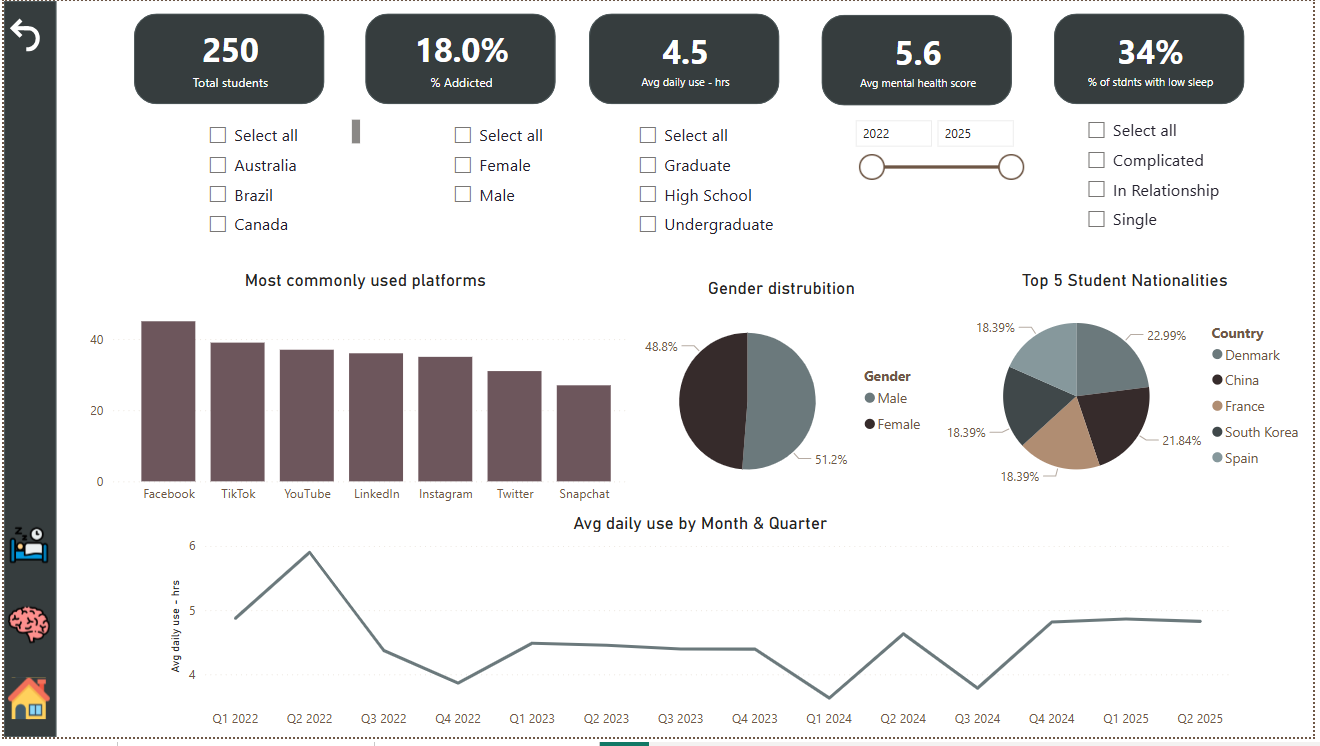

The dashboard page shown, as its layout file describes it:
{"tool":"powerbi","page":{"name":"Overview Dashboard","canvas":[1280,720],"ordinal":0},"visuals":[{"type":"shape","box":[0,0,51.4,720.2],"z":0,"group":"g1"},{"type":"clusteredColumnChart","title":"Most commonly used platforms","fields":{"Category":["Social media usage.Most_Used_Platform"],"Y":["CountNonNull(Social media usage.Usage_ID)"]},"box":[79.5,262.9,547.8,237.2],"z":0},{"type":"shape","box":[127.5,12.5,186.2,88.8],"z":1000},{"type":"actionButton","box":[0,657.9,51.4,48.9],"z":1000,"group":"g1"},{"type":"shape","box":[353.8,12.5,186.2,88.8],"z":2000},{"type":"actionButton","box":[0,585.7,51.4,48.9],"z":2000,"group":"g1"},{"type":"shape","box":[572.5,12.5,186.2,88.8],"z":3000},{"type":"shape","box":[800,13.8,186.2,88.8],"z":4000},{"type":"shape","box":[1027.5,12.5,186.2,88.8],"z":5000},{"type":"card","fields":{"Values":["Students.Total students"]},"box":[147.5,23.8,147.5,66.2],"z":6000},{"type":"card","fields":{"Values":["Measure table.Percent Addicted"]},"box":[373.8,23.8,147.5,66.2],"z":7000},{"type":"card","fields":{"Values":["Measure table.Avg daily use - hrs"]},"box":[592.5,23.8,147.5,66.2],"z":8000},{"type":"card","fields":{"Values":["Measure table.Avg mental health score"]},"box":[820,25,147.5,66.2],"z":9000},{"type":"card","fields":{"Values":["Measure table.% low sleep"]},"box":[1047.5,23.8,147.5,66.2],"z":10000},{"type":"pieChart","title":"Gender distrubition","fields":{"Category":["Students.Gender"],"Y":["CountNonNull(Students.Student_ID)"]},"box":[609,270.2,303.3,223.8],"z":11000},{"type":"pieChart","title":"Top 5 Student Nationalities","fields":{"Category":["Students.Country"],"Y":["CountNonNull(Students.Student_ID)"]},"box":[912.2,262.9,368.1,228.7],"z":12000},{"type":"slicer","fields":{"Values":["Students.Country"]},"box":[188.3,111.3,165.1,128.4],"z":13000},{"type":"slicer","fields":{"Values":["Students.Gender"]},"box":[428,111.3,187.1,112.5],"z":14000},{"type":"slicer","fields":{"Values":["Students.Academic_Level"]},"box":[609,111.3,187.1,138.2],"z":15000},{"type":"slicer","fields":{"Values":["Date.Year"]},"box":[820.5,106.4,185.9,102.7],"z":16000},{"type":"slicer","fields":{"Values":["Students.Relationship_Status"]},"box":[1048,106.4,185.9,149.2],"z":17000},{"type":"lineChart","title":"Avg daily use by Month & Quarter","fields":{"Y":["Measure table.Avg daily use - hrs"],"Category":["DateTable.QuarterYear"]},"box":[157.7,500.1,1046.7,220.1],"z":18000},{"type":"group","id":"g1","title":"Navigation","box":[0,0,51.4,720.2],"z":19000},{"type":"actionButton","box":[0,12.2,51.4,41.6],"z":20000},{"type":"actionButton","box":[0,507.5,51.4,48.9],"z":21000}]}

Visuals, with their boxes on the page's 1280x720 design canvas (x1, y1, x2, y2). These are canvas units, not pixel positions in the 1320x746 screenshot, which may show the page scaled, cropped or inside an application window:
shape: detection(0, 0, 51, 720)
"Most commonly used platforms" clusteredColumnChart: detection(80, 263, 627, 500)
shape: detection(128, 12, 314, 101)
actionButton: detection(0, 658, 51, 707)
shape: detection(354, 12, 540, 101)
actionButton: detection(0, 586, 51, 635)
shape: detection(572, 12, 759, 101)
shape: detection(800, 14, 986, 103)
shape: detection(1028, 12, 1214, 101)
card - Students.Total students: detection(148, 24, 295, 90)
card - Measure table.Percent Addicted: detection(374, 24, 521, 90)
card - Measure table.Avg daily use - hrs: detection(592, 24, 740, 90)
card - Measure table.Avg mental health score: detection(820, 25, 968, 91)
card - Measure table.% low sleep: detection(1048, 24, 1195, 90)
"Gender distrubition" pieChart: detection(609, 270, 912, 494)
"Top 5 Student Nationalities" pieChart: detection(912, 263, 1280, 492)
slicer - Students.Country: detection(188, 111, 353, 240)
slicer - Students.Gender: detection(428, 111, 615, 224)
slicer - Students.Academic_Level: detection(609, 111, 796, 250)
slicer - Date.Year: detection(820, 106, 1006, 209)
slicer - Students.Relationship_Status: detection(1048, 106, 1234, 256)
"Avg daily use by Month & Quarter" lineChart: detection(158, 500, 1204, 720)
"Navigation" group: detection(0, 0, 51, 720)
actionButton: detection(0, 12, 51, 54)
actionButton: detection(0, 508, 51, 556)
